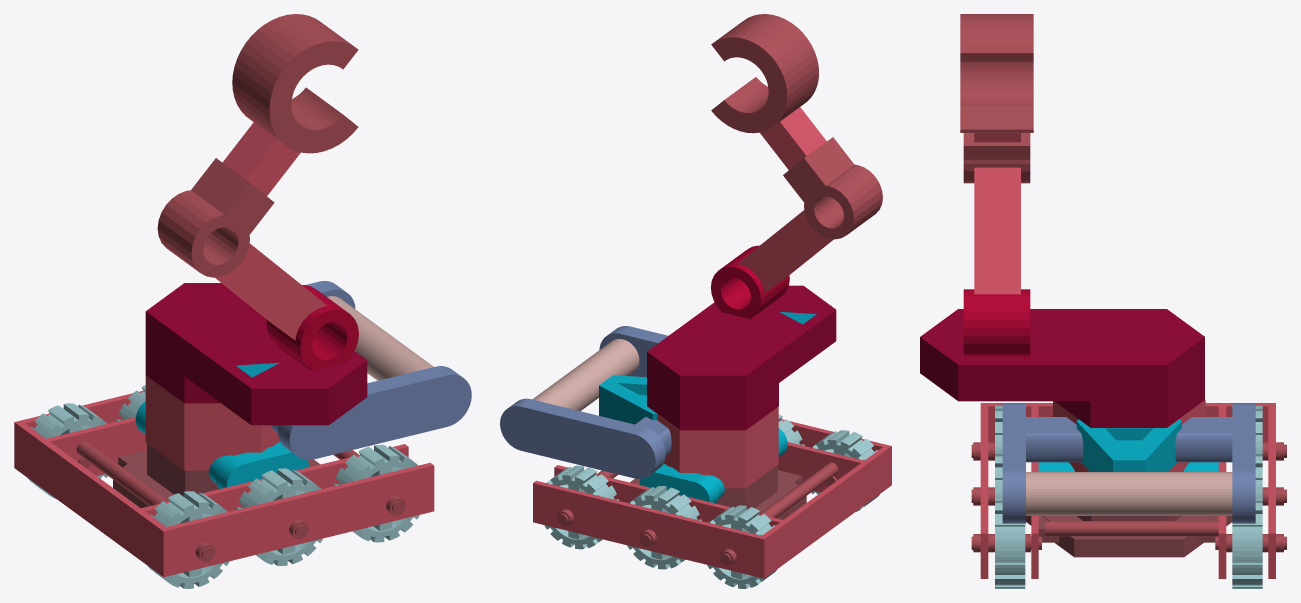
Rendered from bot-tank-red-manipulator.glb.
The picture shows the model from 3 angles, left to right: view 1: azimuth 30°, elevation 25°; view 2: azimuth 150°, elevation 25°; view 3: azimuth 270°, elevation 25°; orthographic projection. The views are drawn at different scales.
Visible parts, largest first — view 1: Mesh_Mesh_head_geo.001_lambert2SG.001; view 2: Mesh_Mesh_head_geo.001_lambert2SG.001; view 3: Mesh_Mesh_head_geo.001_lambert2SG.001.
Boxes of the visible parts, box(x1,y1,x2,y2) form: Mesh_Mesh_head_geo.001_lambert2SG.001: box(14, 14, 471, 588); Mesh_Mesh_head_geo.001_lambert2SG.001: box(500, 14, 891, 588); Mesh_Mesh_head_geo.001_lambert2SG.001: box(920, 14, 1286, 588).
Size of the model in its own units: 0.0272 by 0.0433 by 0.0274.
